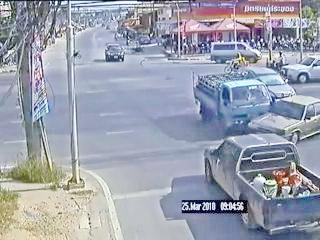Car: (199, 132, 320, 232), (190, 66, 272, 131), (248, 93, 320, 140), (248, 66, 295, 97), (210, 40, 263, 64), (283, 55, 320, 85), (104, 43, 126, 64)
Major Accident: (190, 61, 320, 143)
Motor: (224, 52, 249, 71)
